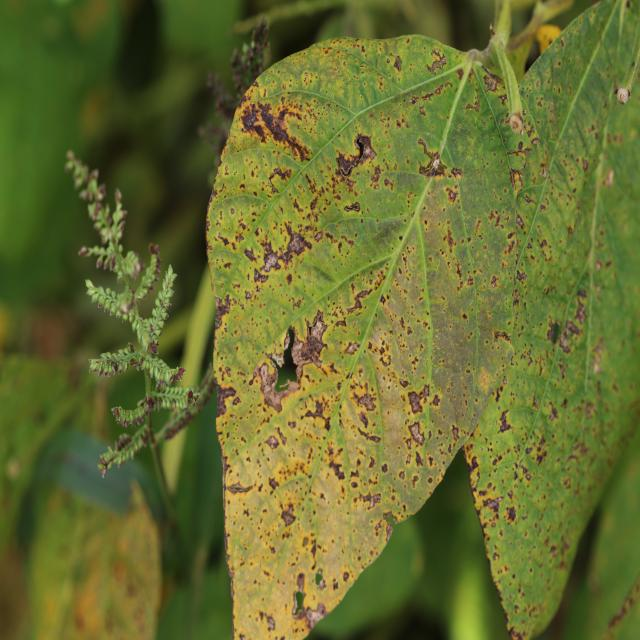Bacterial_Blight: (325, 130, 372, 189), (288, 312, 328, 376), (550, 295, 590, 356), (289, 572, 327, 629), (400, 381, 439, 416), (240, 100, 272, 138), (417, 139, 447, 177), (407, 83, 448, 107), (257, 237, 282, 274), (304, 398, 331, 427), (286, 229, 311, 256), (266, 167, 288, 197), (354, 386, 377, 414), (215, 382, 238, 408), (214, 293, 230, 330), (382, 510, 399, 544), (265, 350, 287, 372), (407, 421, 426, 446), (427, 51, 447, 74), (357, 491, 381, 510), (442, 225, 458, 252), (280, 502, 297, 526), (225, 481, 254, 494), (508, 168, 525, 190), (328, 458, 345, 480), (508, 111, 524, 133), (497, 410, 512, 433), (483, 73, 500, 93), (482, 495, 503, 511), (614, 86, 631, 105), (551, 320, 562, 345), (493, 330, 512, 344), (265, 434, 279, 450), (603, 168, 614, 188), (393, 55, 403, 73), (515, 213, 525, 230), (315, 569, 324, 587), (266, 615, 276, 630), (145, 396, 155, 409), (540, 165, 547, 179), (408, 96, 418, 105), (112, 363, 118, 375), (187, 390, 193, 400), (230, 208, 235, 215)
Soybean: (206, 0, 640, 638)
